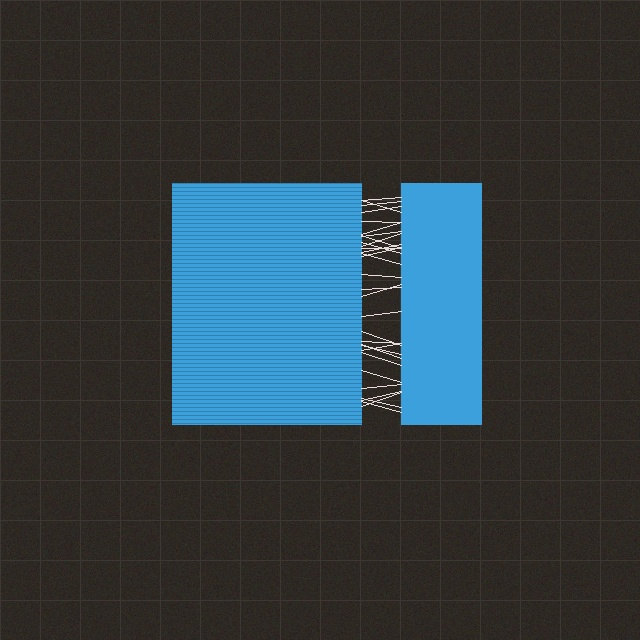stringing: (356, 183, 406, 424)
